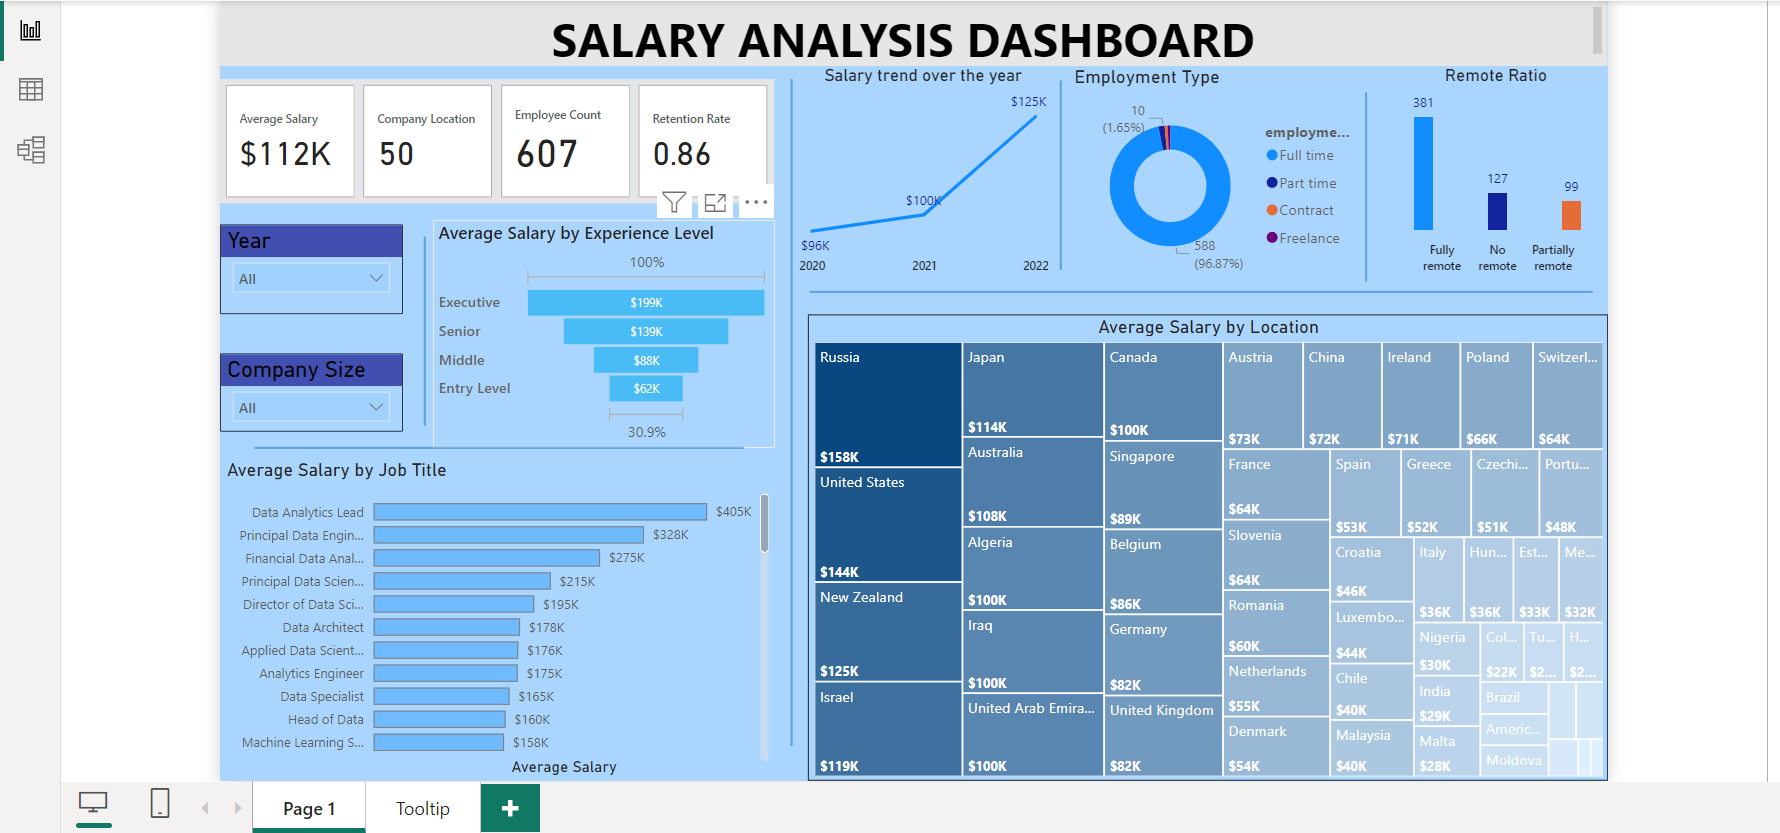

What the dashboard file says about the page in this screenshot:
{"tool":"powerbi","page":{"name":"Page 1","canvas":[1280,720],"ordinal":0},"visuals":[{"type":"clusteredBarChart","title":"Average Salary  by Job Title","fields":{"Category":["data_science.job_title"],"Y":["data_science.Average Salary by Job Title"]},"box":[1.5,422.5,509.8,297],"z":0},{"type":"textbox","box":[0,0,1279.8,59.7],"z":1000},{"type":"slicer","title":"Year","fields":{"Values":["data_science.work_year"]},"box":[0,206.7,168.4,82.7],"z":2000},{"type":"cardVisual","fields":{"Data":["data_science.Average Salary by Job Title","data_science.Country Count","data_science.Employee Count by Employment Type","data_science.Retention Rate by Experience Level"]},"box":[0,71.9,511.3,114.8],"z":3000},{"type":"funnel","title":"Average Salary by Experience Level","fields":{"Category":["data_science.experience_level"],"Y":["data_science.Average Salary by Job Title"]},"box":[195.9,202.1,315.4,209.7],"z":4000},{"type":"treemap","title":"Average Salary  by Location","fields":{"Group":["data_science.Location"],"Values":["data_science.Average Salary by Job Title"]},"box":[541.9,289.3,737.9,430.2],"z":5000},{"type":"donutChart","title":"Employment Type","fields":{"Category":["data_science.employment_type"],"Y":["data_science.Employee Count by Employment Type"]},"box":[783.8,59.7,274,202.1],"z":6000},{"type":"clusteredColumnChart","title":"Remote Ratio","fields":{"Category":["data_science.remote_ratio"],"Y":["data_science.Employee Count by Employment Type"],"Series":["data_science.remote_ratio"]},"box":[1073.1,59.7,206.7,199],"z":7000},{"type":"slicer","title":"Company Size","fields":{"Values":["data_science.company_size"]},"box":[0,324.5,168.4,71.9],"z":8000},{"type":"lineChart","title":"Salary trend over the year","fields":{"Category":["data_science.work_year"],"Y":["data_science.Average Salary by Job Title"]},"box":[528.1,59.7,240.3,202.1],"z":9000},{"type":"shape","box":[32.1,391.9,451.6,41.3],"z":10000},{"type":"shape","box":[511.3,71.9,30.6,615.4],"z":11000},{"type":"shape","box":[543.5,248,722.6,41.3],"z":12000},{"type":"shape","box":[768.5,73.5,15.3,174.5],"z":13000},{"type":"shape","box":[1042.5,84.2,30.6,174.5],"z":14000},{"type":"shape","box":[180.6,217.4,15.3,174.5],"z":15000}]}

Visuals, with their boxes on the page's 1280x720 design canvas (x1, y1, x2, y2). These are canvas units, not pixel positions in the 1780x833 screenshot, which may show the page scaled, cropped or inside an application window:
"Average Salary  by Job Title" clusteredBarChart: <bbox>2, 422, 511, 720</bbox>
textbox: <bbox>0, 0, 1280, 60</bbox>
"Year" slicer: <bbox>0, 207, 168, 289</bbox>
cardVisual - data_science.Average Salary by Job Title x data_science.Country Count: <bbox>0, 72, 511, 187</bbox>
"Average Salary by Experience Level" funnel: <bbox>196, 202, 511, 412</bbox>
"Average Salary  by Location" treemap: <bbox>542, 289, 1280, 720</bbox>
"Employment Type" donutChart: <bbox>784, 60, 1058, 262</bbox>
"Remote Ratio" clusteredColumnChart: <bbox>1073, 60, 1280, 259</bbox>
"Company Size" slicer: <bbox>0, 324, 168, 396</bbox>
"Salary trend over the year" lineChart: <bbox>528, 60, 768, 262</bbox>
shape: <bbox>32, 392, 484, 433</bbox>
shape: <bbox>511, 72, 542, 687</bbox>
shape: <bbox>544, 248, 1266, 289</bbox>
shape: <bbox>768, 74, 784, 248</bbox>
shape: <bbox>1042, 84, 1073, 259</bbox>
shape: <bbox>181, 217, 196, 392</bbox>
